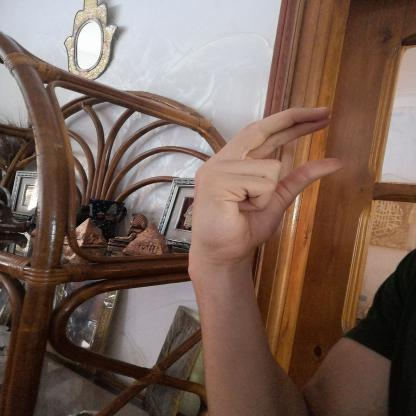DHELL: (178, 96, 353, 272)
